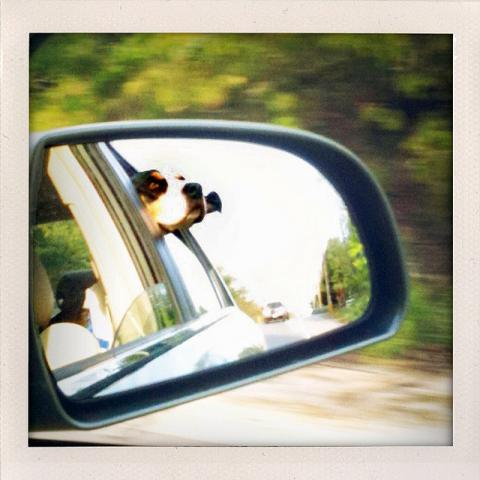car: (25, 141, 274, 398), (263, 302, 289, 324)
